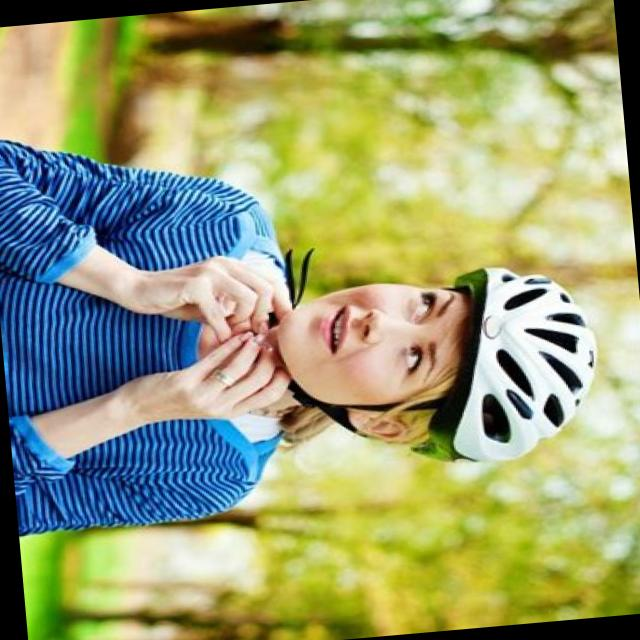With Helmet: (273, 256, 606, 484)
